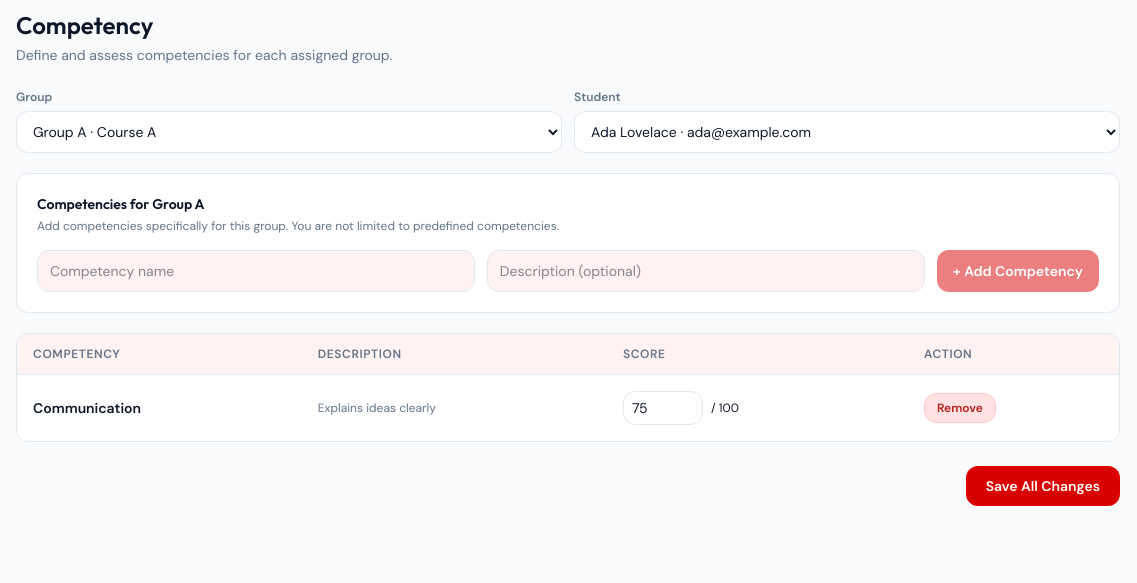
Test case: TeacherCompetency › removes a competency after confirmation
Click the button "Remove" at (960, 408), box [924,393,996,423]
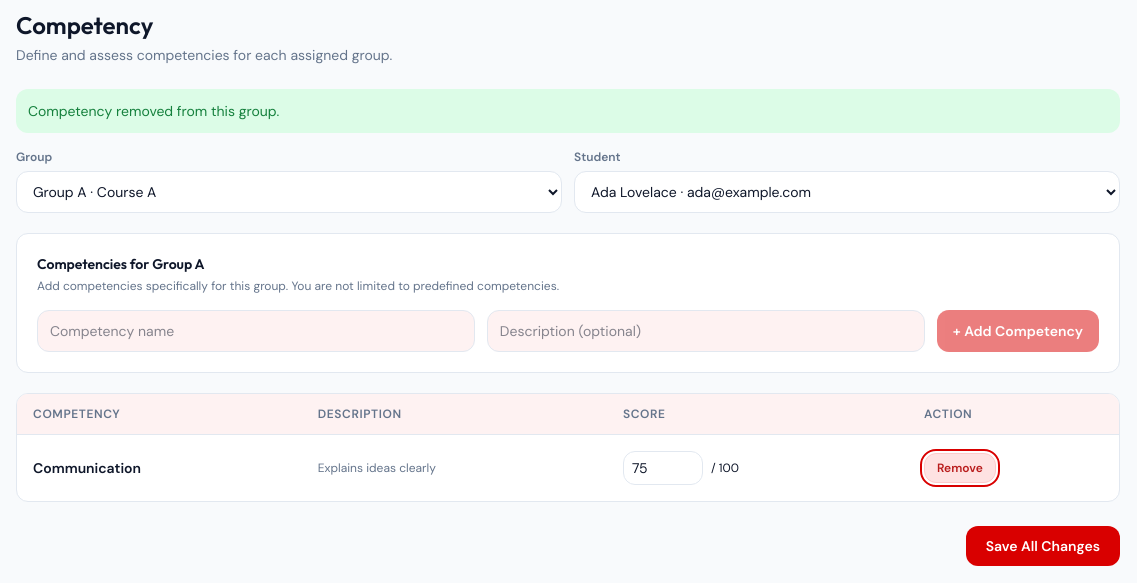
Expected: the text "Competency removed from this group." is shown, [16,89,1120,133]
